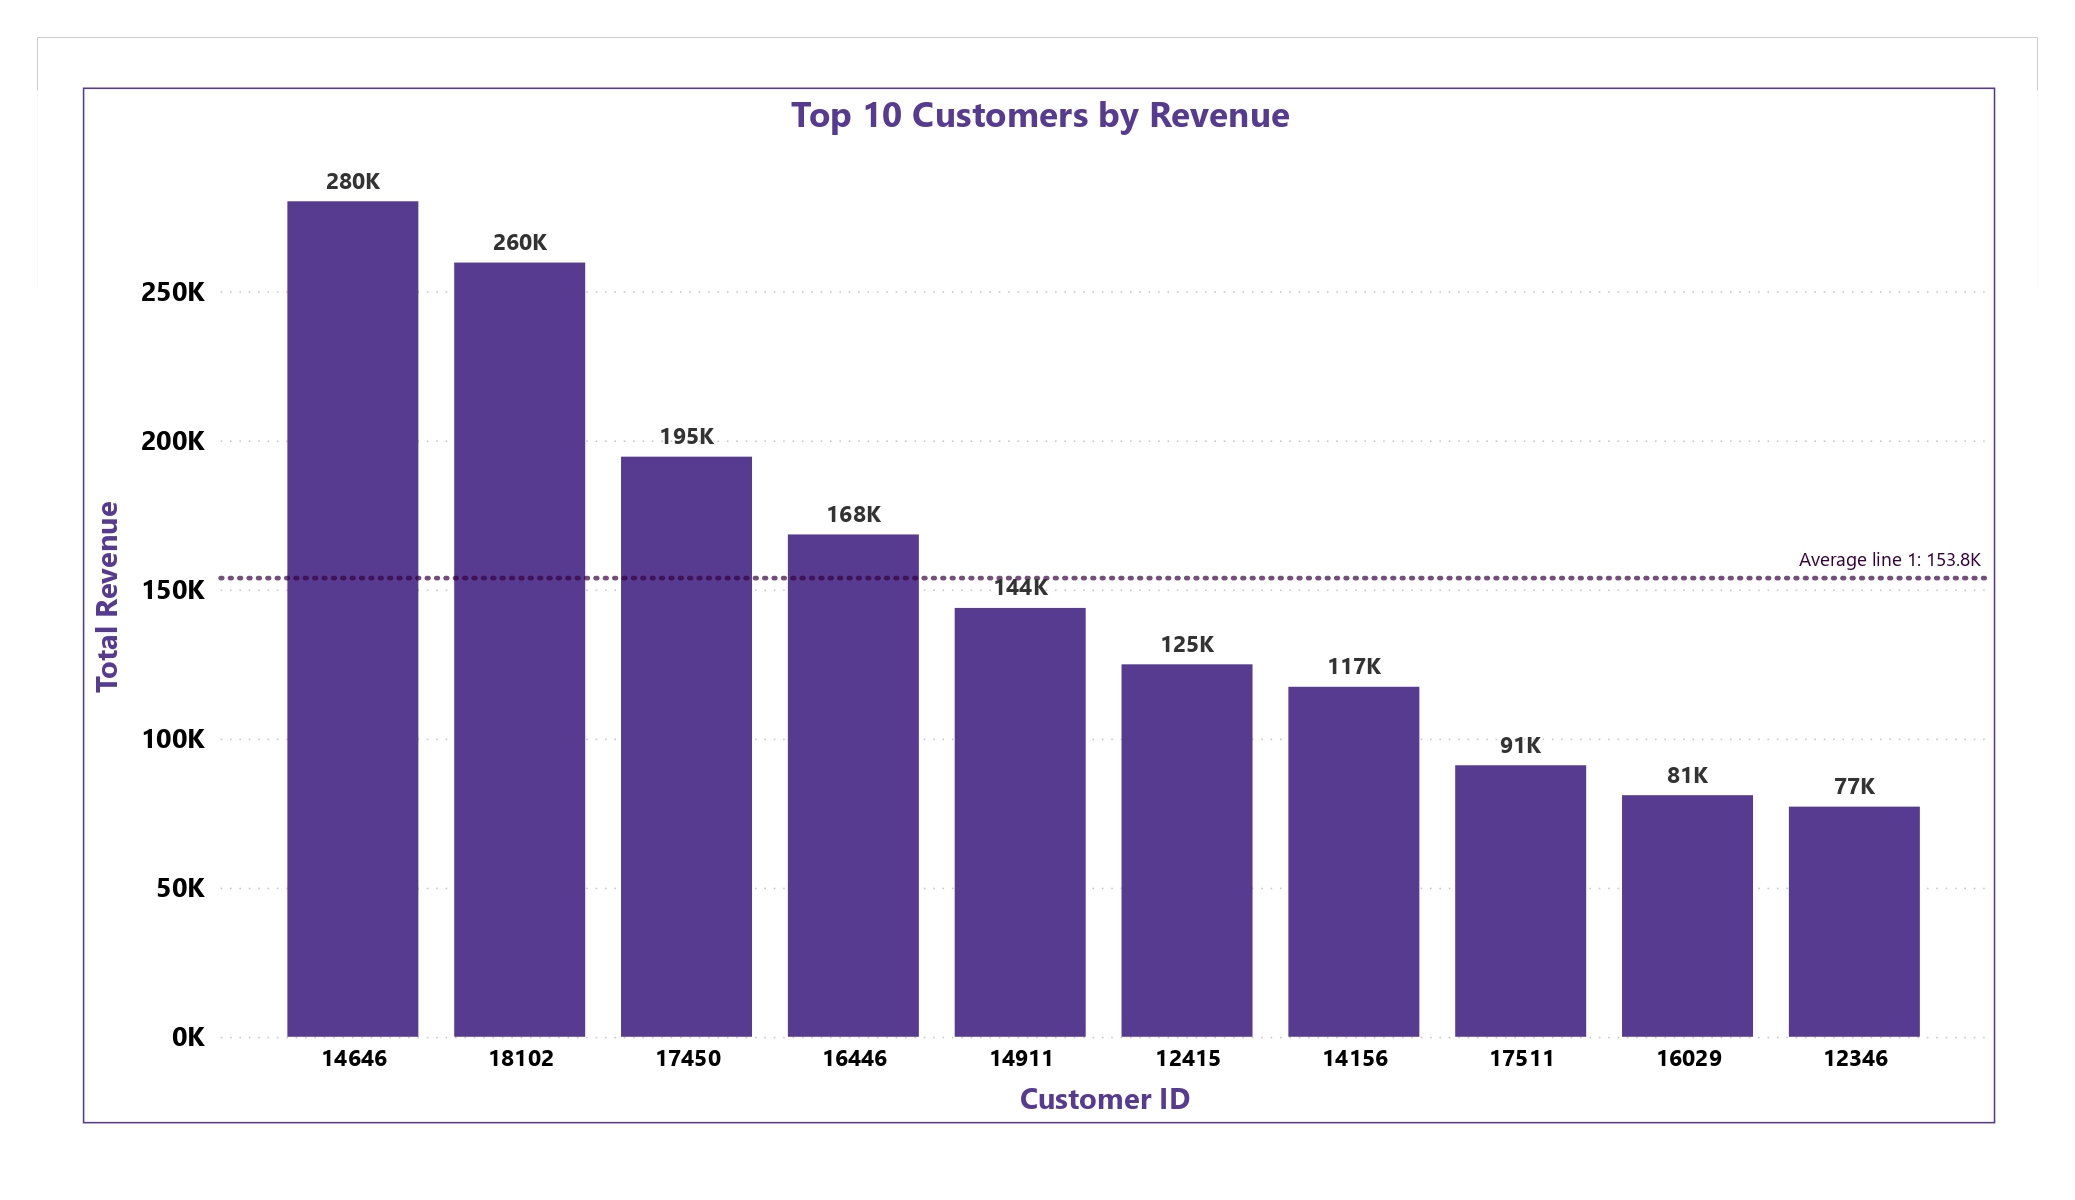

What the dashboard file says about the page in this screenshot:
{"tool":"powerbi","page":{"name":"Question-3","canvas":[1280,720],"ordinal":2},"visuals":[{"type":"clusteredColumnChart","title":"Top 10 Customers by Revenue","fields":{"Y":["Sum(Online Retail.Revenue)"],"Category":["Online Retail.CustomerID"]},"box":[28.6,32.4,1224.5,662.7],"z":0}]}

Visuals, with their boxes in screenshot pixels (x1, y1, x2, y2):
"Top 10 Customers by Revenue" clusteredColumnChart: [82,88,1995,1124]
